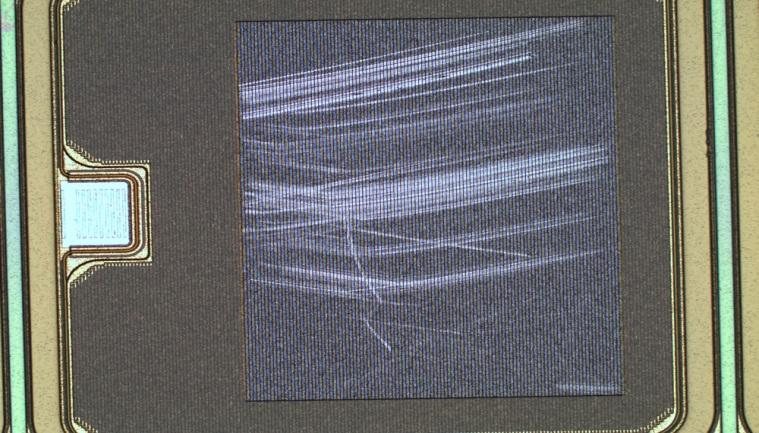SCRATCH: (239, 18, 627, 397)
